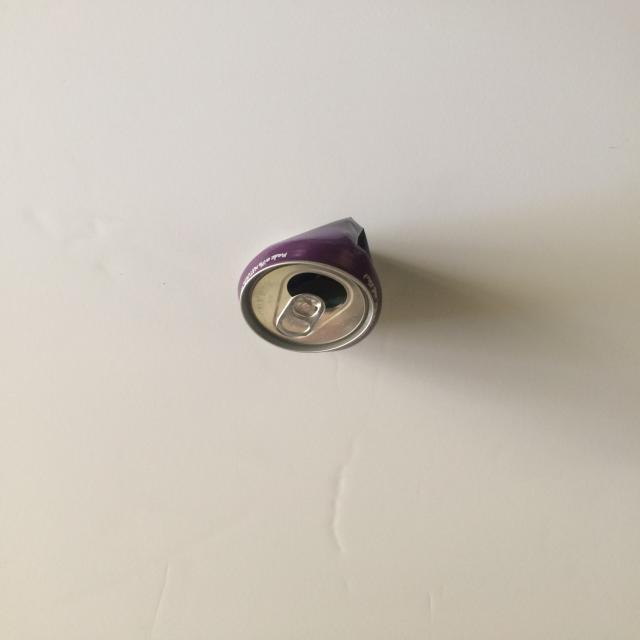metal: (239, 218, 385, 352)
